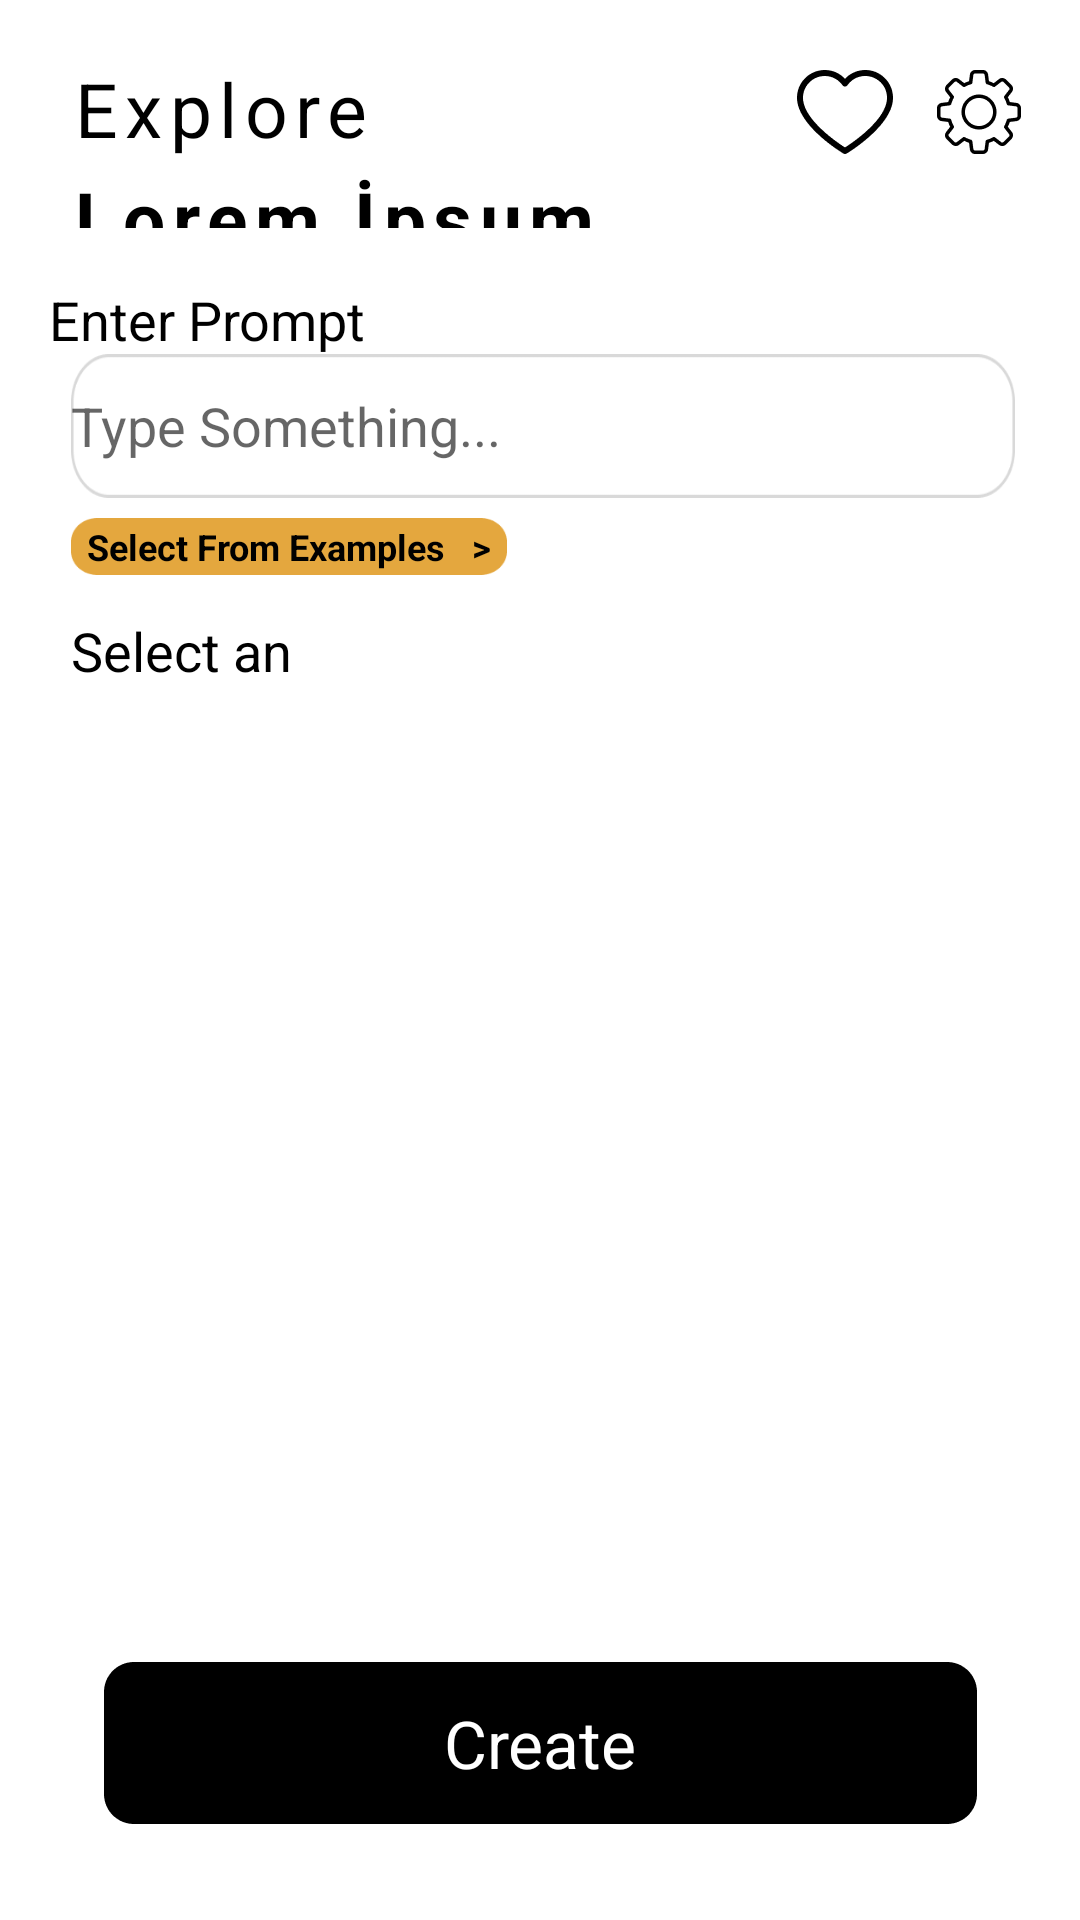

Named icons in this screenshot (1080×1920) and their centers, [x,y]:
favorite: [845,112]
settings: [979,112]
